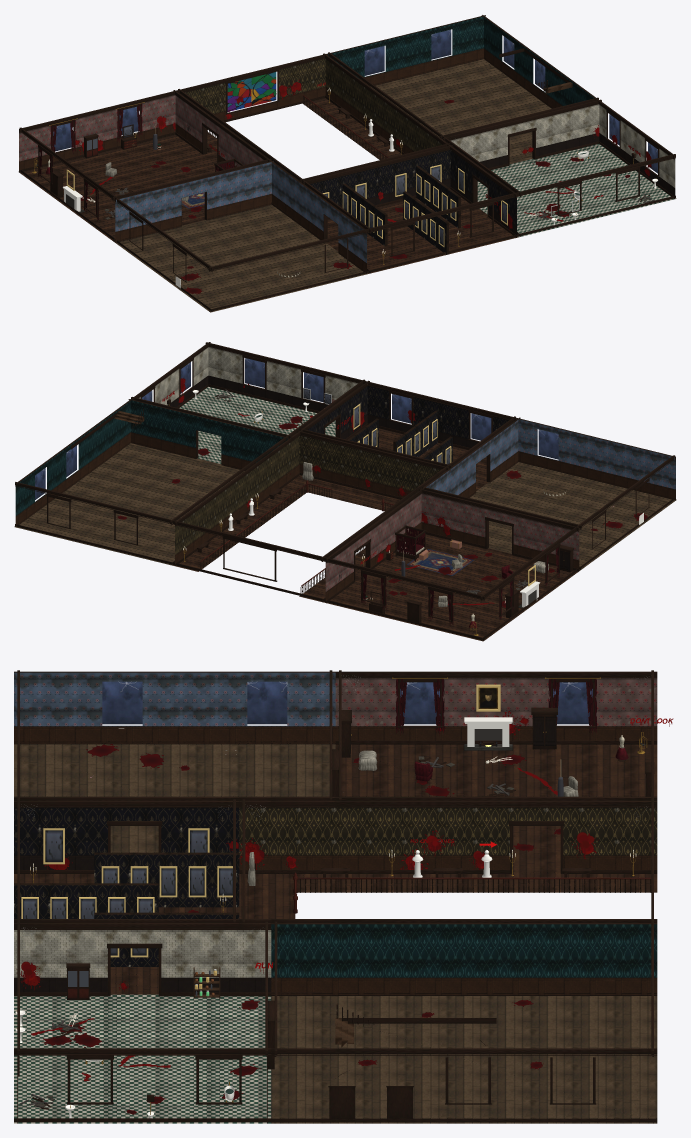
File: house_upper.glb
The picture shows the model from 3 angles, top to bottom: view 1: azimuth 30°, elevation 25°; view 2: azimuth 150°, elevation 25°; view 3: azimuth 270°, elevation 25°; orthographic projection. The views are drawn at different scales.
Parts seen in each view (by area): view 1: house_upper; view 2: house_upper; view 3: house_upper.
Part boxes in pixels (left/top/right/bottom): house_upper: left=18, top=15, right=676, bottom=312; house_upper: left=14, top=342, right=676, bottom=641; house_upper: left=14, top=670, right=673, bottom=1123.
Bounding box in the file's own units: 57.32 × 6.88 × 41.22.
Materials: 71 (54 with a texture image).
